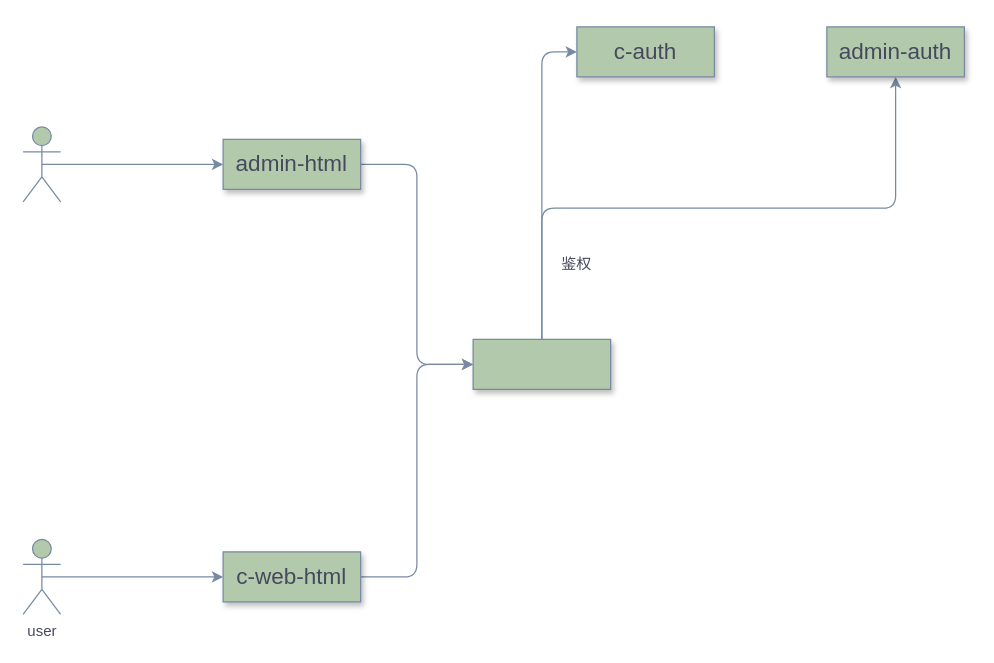
Some shapes in this 994 by 663 pixel diagram are drawn without their labels. Each missing label, with the centre of its shape:
admin: (41,164)
gateway: (542,365)
